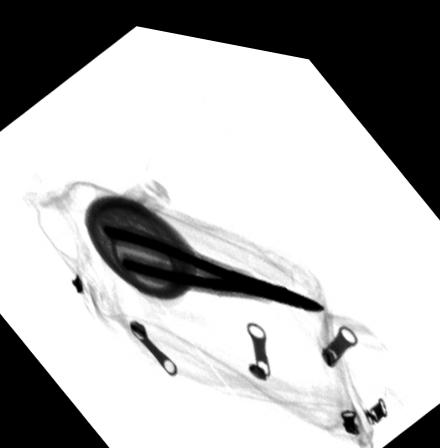Pliers: (99, 218, 327, 300)
